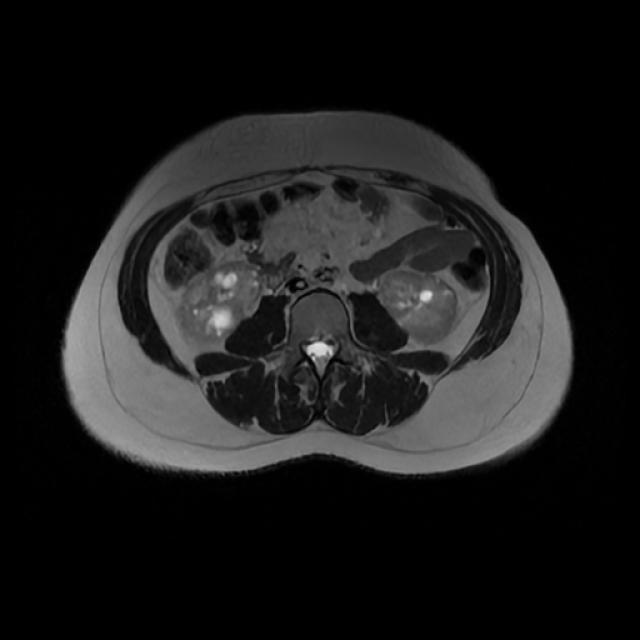sag: (179, 261, 262, 338)
sol: (381, 267, 460, 341)
